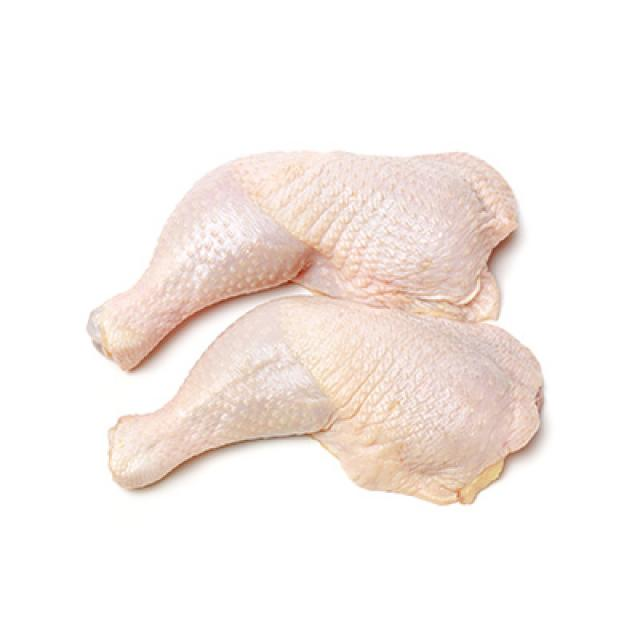chicken: (90, 152, 518, 370), (109, 298, 541, 505)
